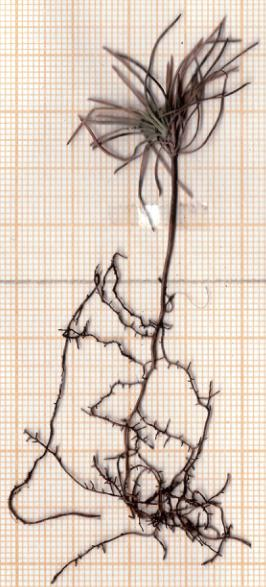flower: (65, 12, 262, 232)
root: (5, 251, 248, 587)
stem: (158, 155, 185, 285)
